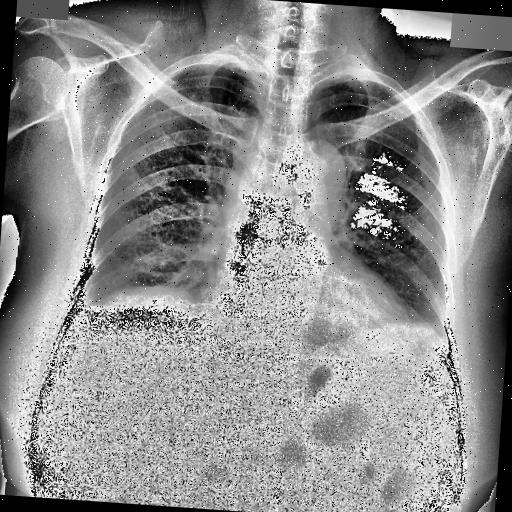0- Aortic enlargement: (264, 134, 348, 220), (272, 136, 346, 218), (280, 139, 348, 222)
10- Pleural effusion: (422, 316, 452, 354)
11- Pleural thickening: (422, 316, 452, 354)
3- Cardiomegaly: (192, 266, 412, 366), (192, 266, 408, 356)
